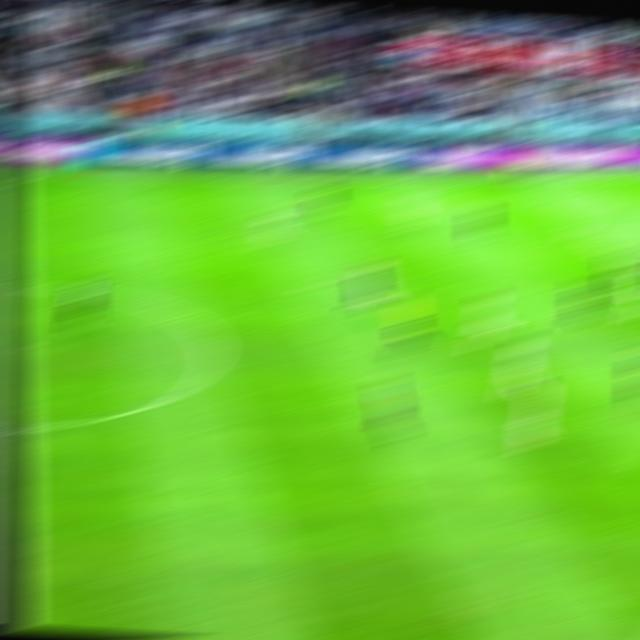bigarea_top_inner: (565, 221, 597, 239)
halfcircle_bottom: (5, 410, 40, 442)
halfcircle_top: (3, 275, 35, 295)
midline_top_intersection: (2, 161, 33, 182)
